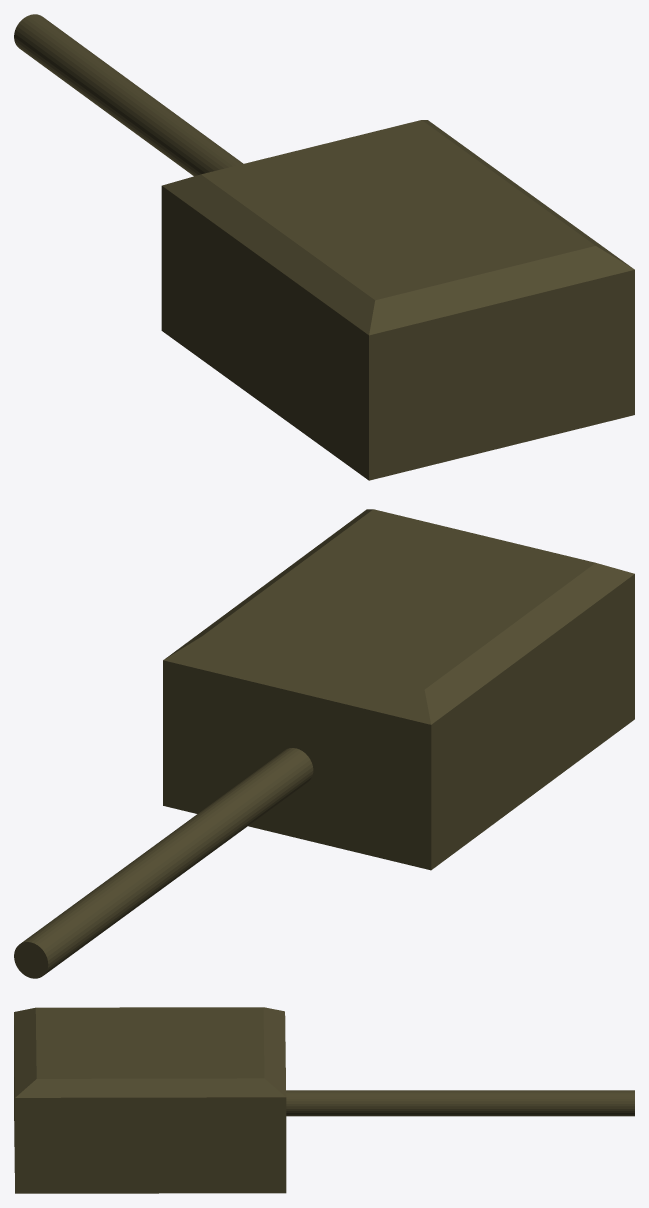
Rendered from test_enemy_cannon.glb.
3 renders of one model, top to bottom at view 1: azimuth 30°, elevation 25°; view 2: azimuth 150°, elevation 25°; view 3: azimuth 270°, elevation 25°, orthographic. The views are drawn at different scales.
Visible parts, largest first — view 1: Cube.001, Cylinder.002; view 2: Cube.001, Cylinder.002; view 3: Cube.001, Cylinder.002.
Part boxes in pixels (left/top/right/bottom): Cube.001: left=161, top=120, right=634, bottom=480; Cylinder.002: left=14, top=14, right=243, bottom=176; Cube.001: left=163, top=509, right=634, bottom=870; Cylinder.002: left=14, top=748, right=313, bottom=978; Cube.001: left=14, top=1007, right=286, bottom=1193; Cylinder.002: left=286, top=1090, right=634, bottom=1116.
Bounding box in the file's own units: 6.04 × 3.5 × 18.32.
